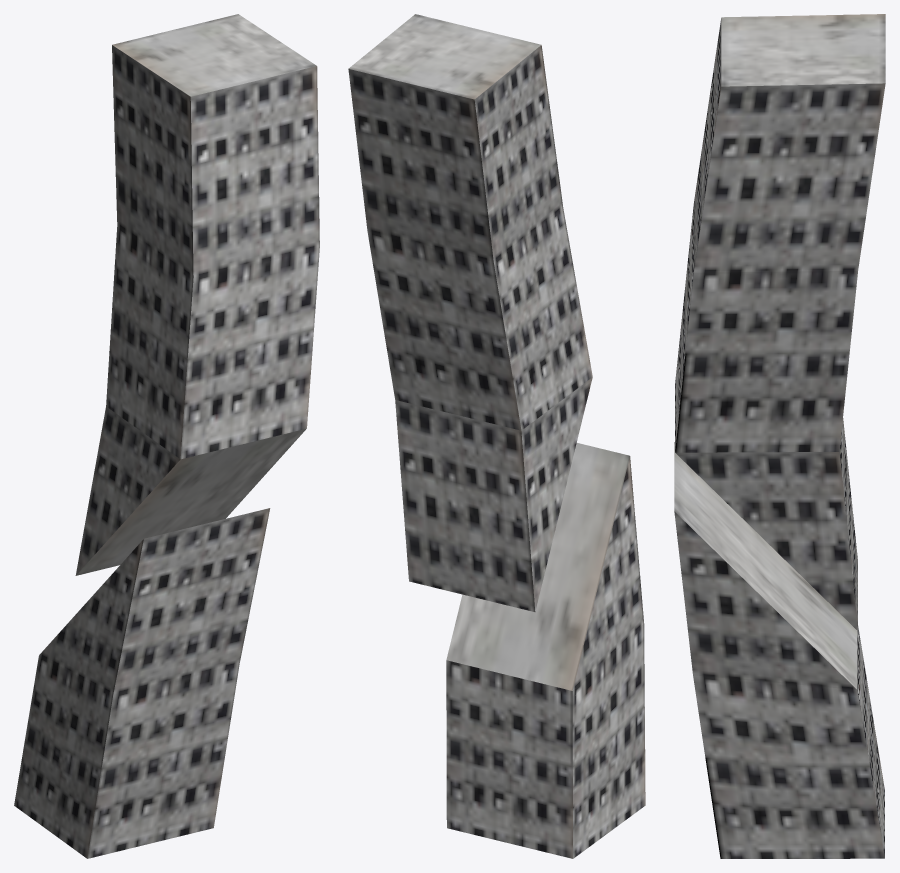
Rendered from Building2.fbx.
The picture shows the model from 3 angles, left to right: view 1: azimuth 30°, elevation 25°; view 2: azimuth 150°, elevation 25°; view 3: azimuth 270°, elevation 25°; orthographic projection. The views are drawn at different scales.
Parts seen in each view (by area): view 1: dressings_Cube_009; view 2: dressings_Cube_009; view 3: dressings_Cube_009.
Boxes of the visible parts, x1,y1,x2,y2 form: dressings_Cube_009: (14,14,319,858); dressings_Cube_009: (348,14,645,858); dressings_Cube_009: (674,14,885,858).
Bounding box in the file's own units: 2194 × 6700 × 1547.
Materials: 1 (1 with a texture image).
